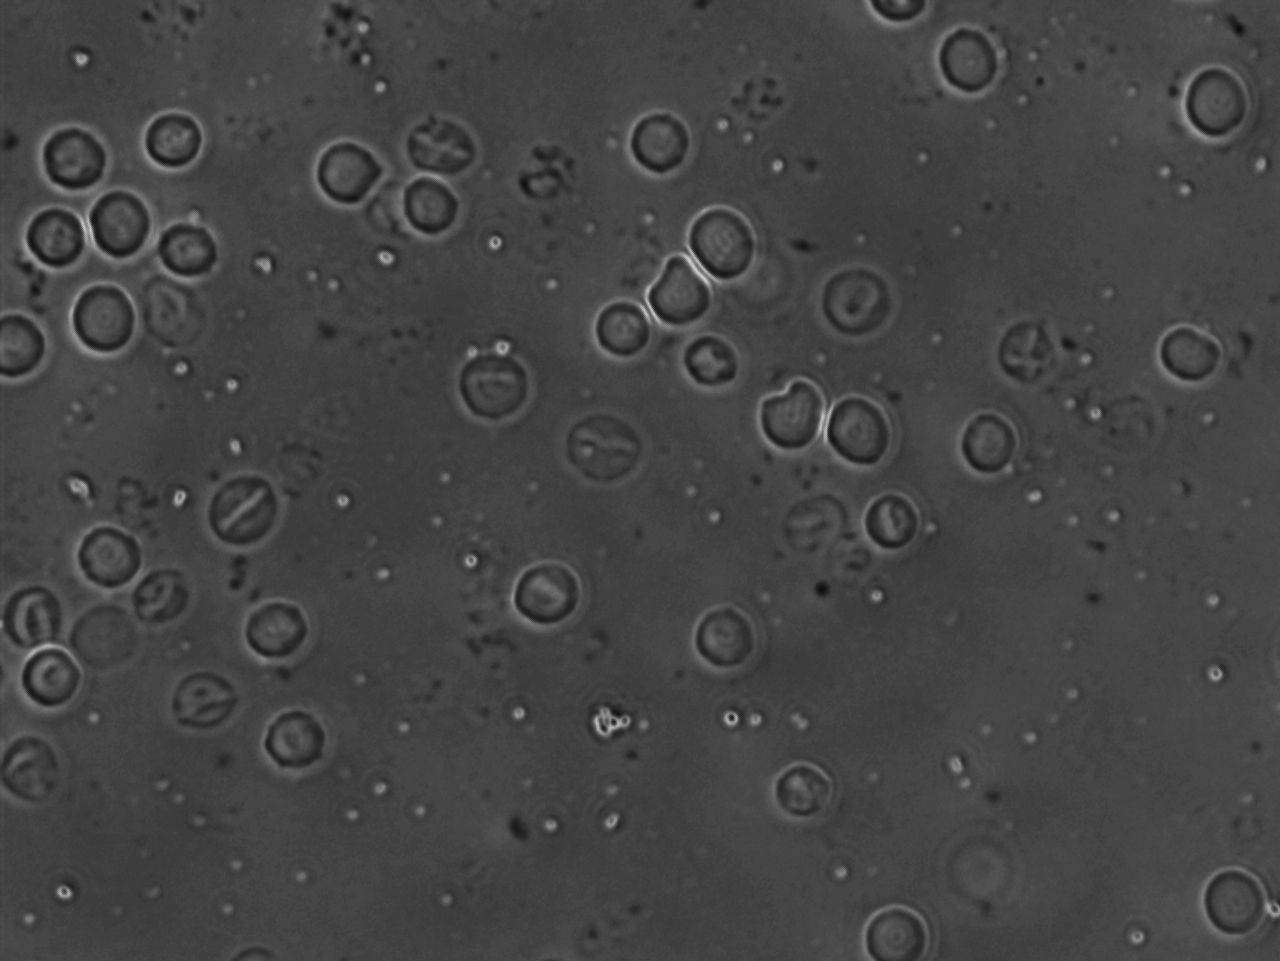depth:0: (58, 268, 155, 363), (193, 466, 291, 558), (135, 97, 230, 189), (1190, 852, 1280, 949), (1146, 311, 1240, 402), (63, 511, 161, 597), (1171, 59, 1259, 153), (683, 598, 771, 692), (678, 194, 764, 291), (743, 366, 833, 457), (458, 342, 556, 425), (251, 690, 341, 779), (505, 546, 593, 637), (803, 383, 889, 473), (609, 97, 695, 189), (849, 473, 941, 559), (76, 180, 166, 266), (5, 189, 93, 275), (925, 19, 1007, 110), (232, 585, 323, 667), (580, 281, 665, 367), (32, 116, 120, 200), (765, 741, 846, 832), (10, 635, 97, 718), (950, 398, 1030, 488), (638, 238, 719, 326), (302, 127, 387, 210), (388, 172, 476, 246), (852, 896, 949, 961), (151, 208, 227, 289)
